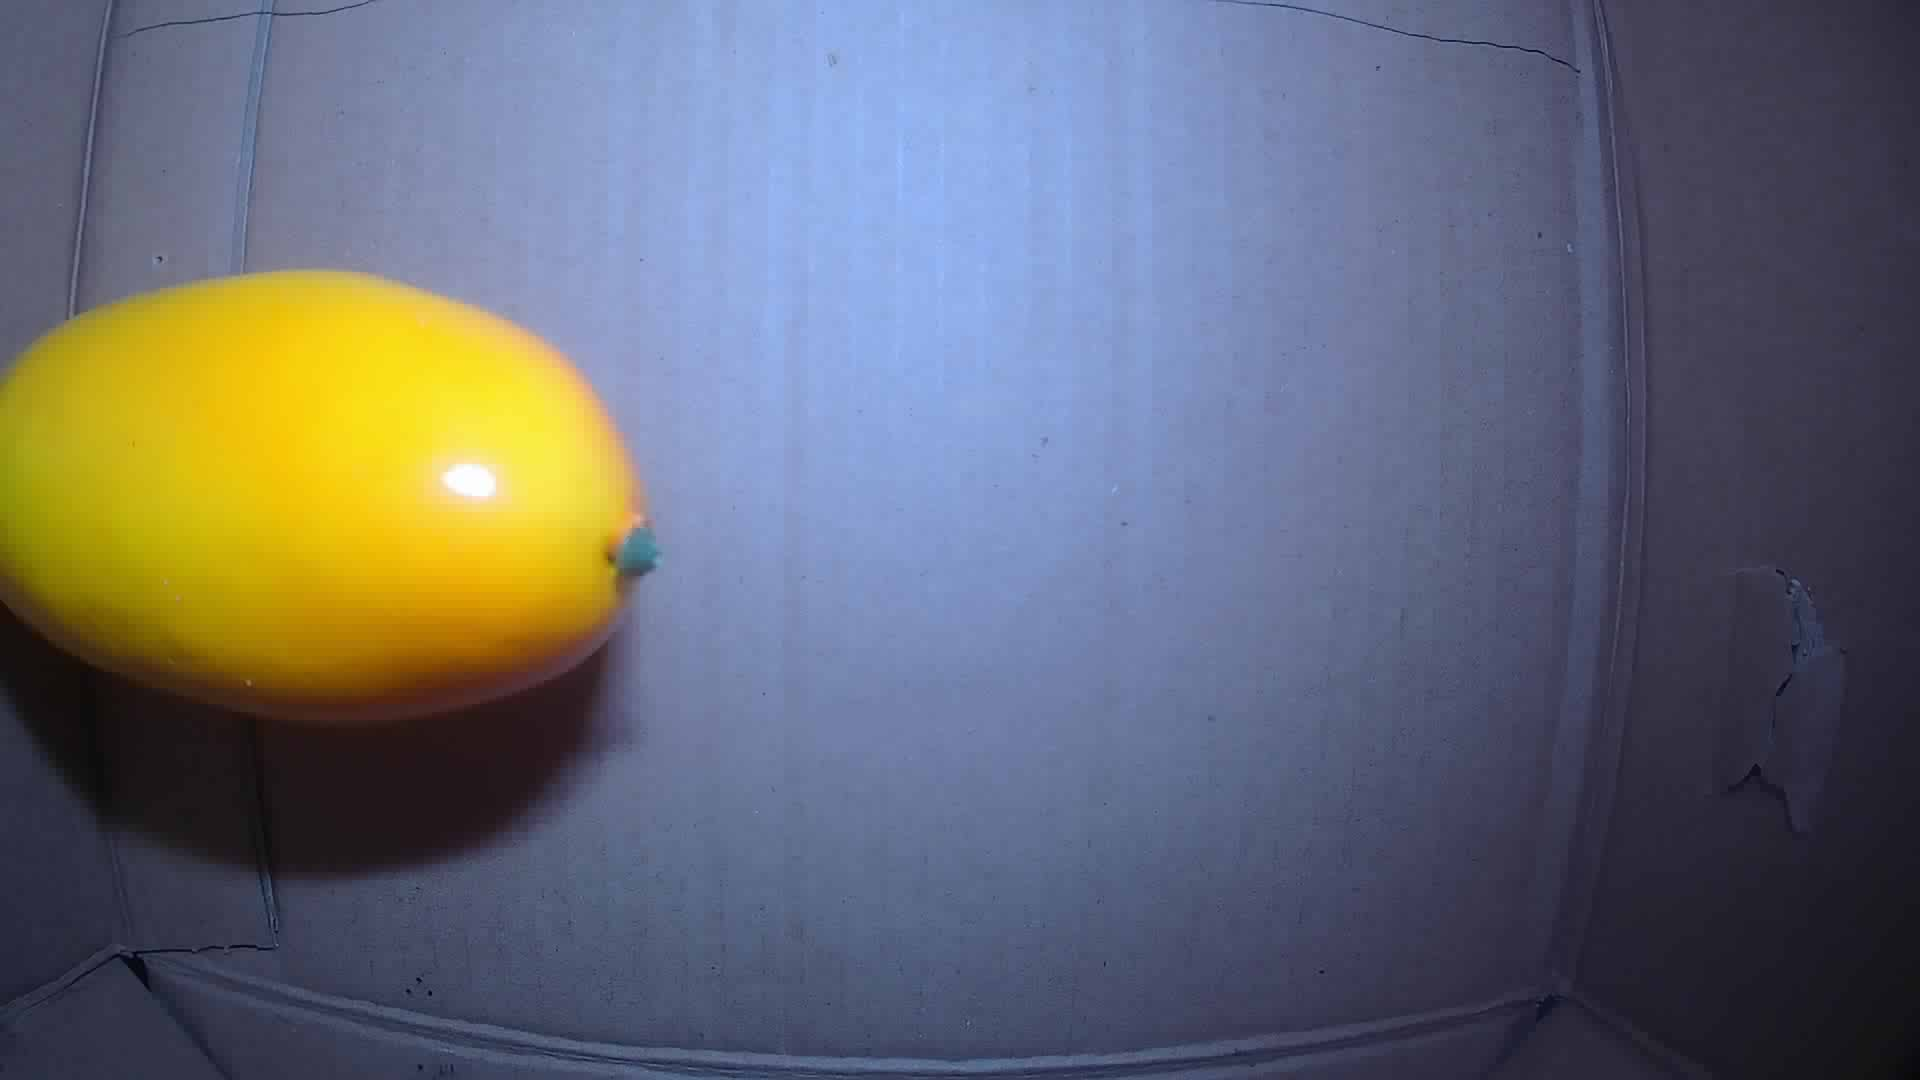mango: (1, 265, 662, 727)
